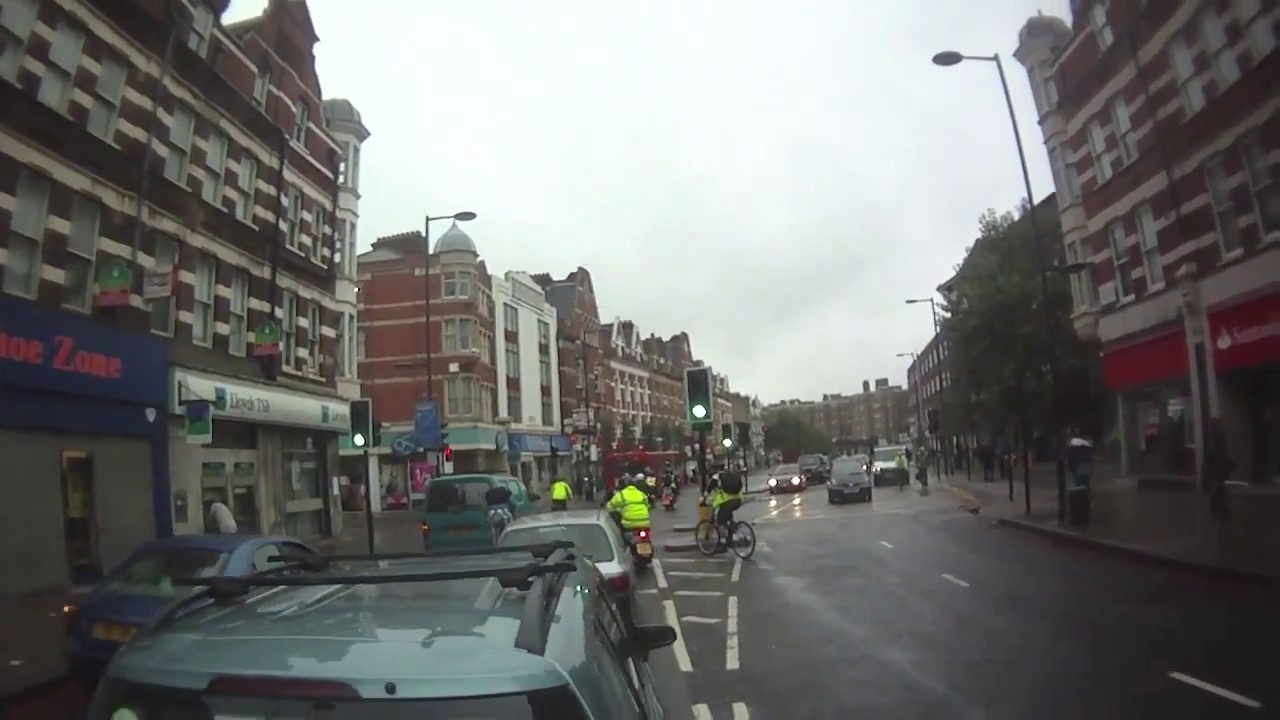cyclist_side: (690, 468, 759, 564)
